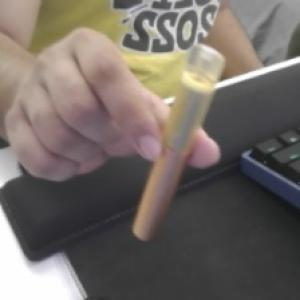Golden-E-Ciggirate: (130, 40, 226, 248)
